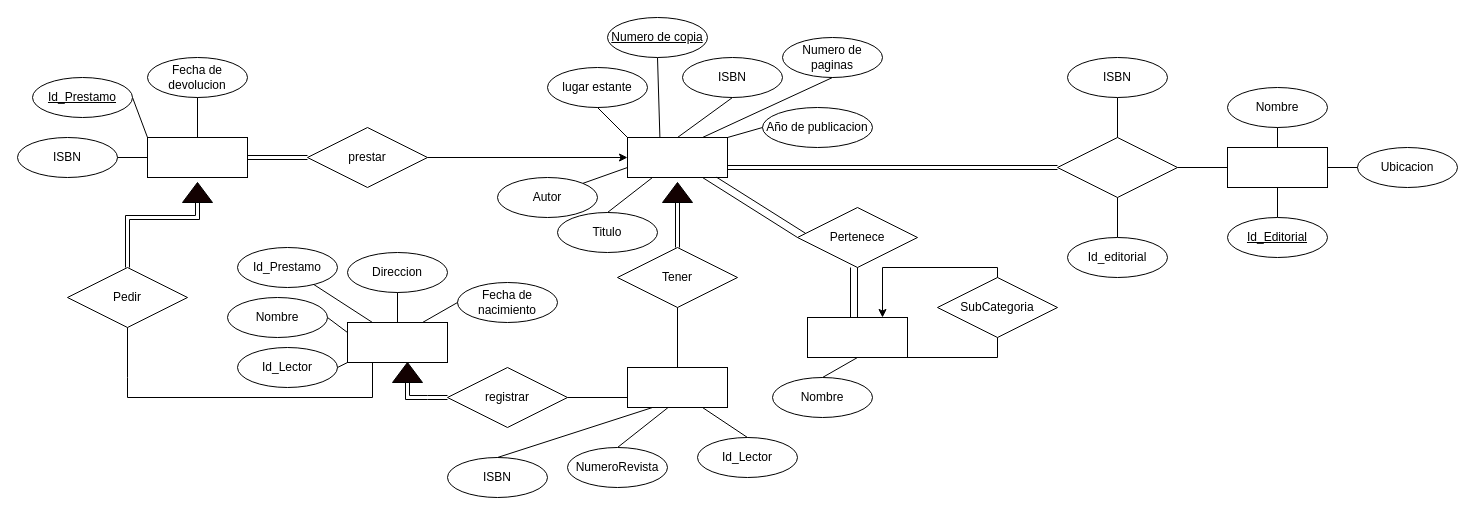
This 1475x515 diagram has some shape labels left out. Here are the shapes that lost their labels. From the top down, the centre of each, then its label:
At point (197, 157): "Prestado".
At point (677, 157): "Libro".
At point (1117, 167): "publicar".
At point (1277, 167): "Editorial".
At point (397, 342): "Lector".
At point (857, 337): "Categoria".
At point (677, 387): "Biblioteca".
